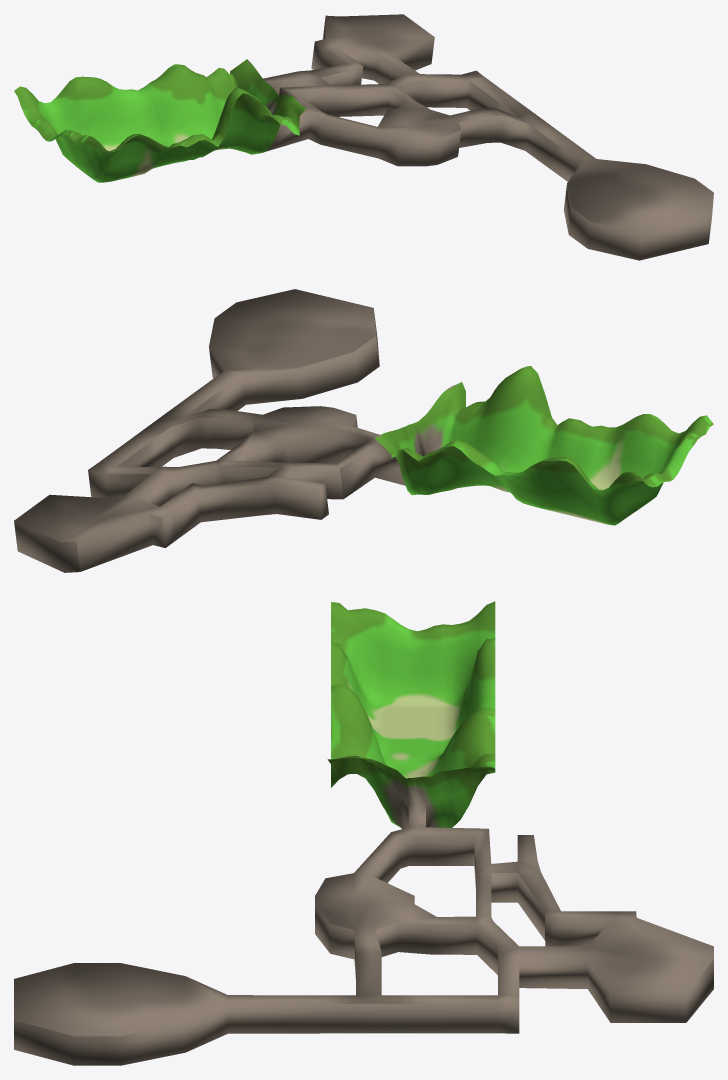
Rendered from CavernMap.fbx.
3 views of the same model, one above another, from view 1: azimuth 30°, elevation 25°; view 2: azimuth 150°, elevation 25°; view 3: azimuth 270°, elevation 25° (orthographic). The views are drawn at different scales.
Visible parts, largest first — view 1: Plane; view 2: Plane; view 3: Plane.
Boxes of the visible parts, x1,y1,x2,y2 form: Plane: (14, 14, 713, 260); Plane: (14, 289, 713, 572); Plane: (14, 601, 713, 1065).
Size of the model in its own units: 24631 by 6226 by 23459.
Materials: 1 (1 with a texture image).
